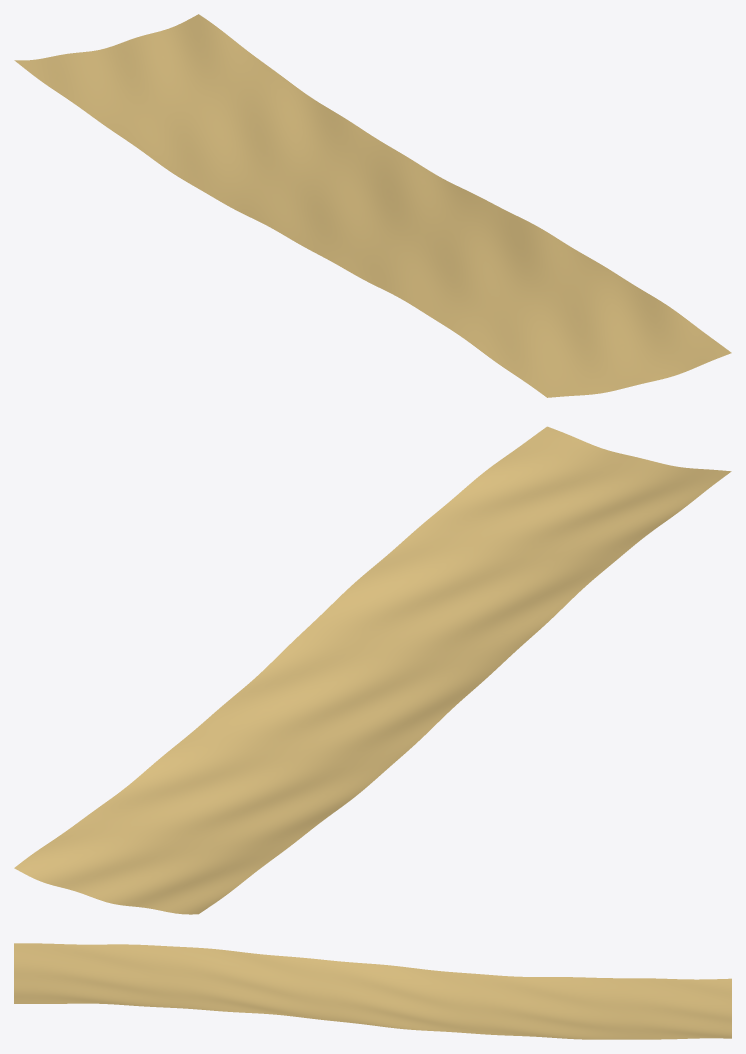
Rendered from sand_floor_03.obj.
3 renders of one model, top to bottom at view 1: azimuth 30°, elevation 25°; view 2: azimuth 150°, elevation 25°; view 3: azimuth 270°, elevation 25°, orthographic. The views are drawn at different scales.
Visible parts, largest first — view 1: SandFloor; view 2: SandFloor; view 3: SandFloor.
Part boxes in pixels (x1=…): SandFloor: x1=14, y1=14, x2=731, y2=397; SandFloor: x1=14, y1=426, x2=731, y2=914; SandFloor: x1=14, y1=943, x2=731, y2=1039.
Size of the model in its own units: 240 by 79.19 by 1200.
Materials: 1 (1 with a texture image).
